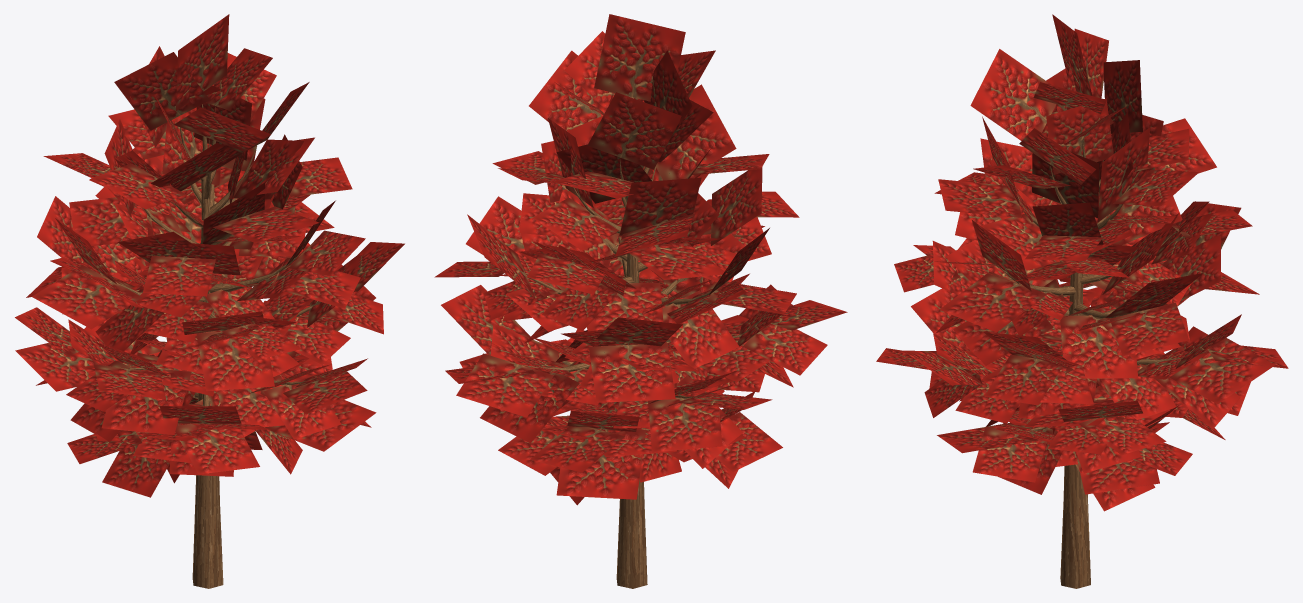
File: Nature_tree02b.fbx
3 views of the same model, side by side, from view 1: azimuth 30°, elevation 25°; view 2: azimuth 150°, elevation 25°; view 3: azimuth 270°, elevation 25° (orthographic).
Parts seen in each view (by area): view 1: leaves, leaves1, tree; view 2: leaves, leaves1, tree; view 3: leaves, leaves1, tree.
Boxes of the visible parts, x1,y1,x2,y2 form: leaves: [15, 14, 404, 497]; leaves1: [15, 20, 402, 495]; tree: [116, 104, 312, 588]; leaves: [435, 14, 847, 505]; leaves1: [436, 18, 844, 502]; tree: [520, 159, 771, 588]; leaves: [876, 14, 1288, 511]; leaves1: [877, 15, 1283, 510]; tree: [957, 107, 1206, 588].
Size of the model in its own units: 2.88 by 4.7 by 3.14.
